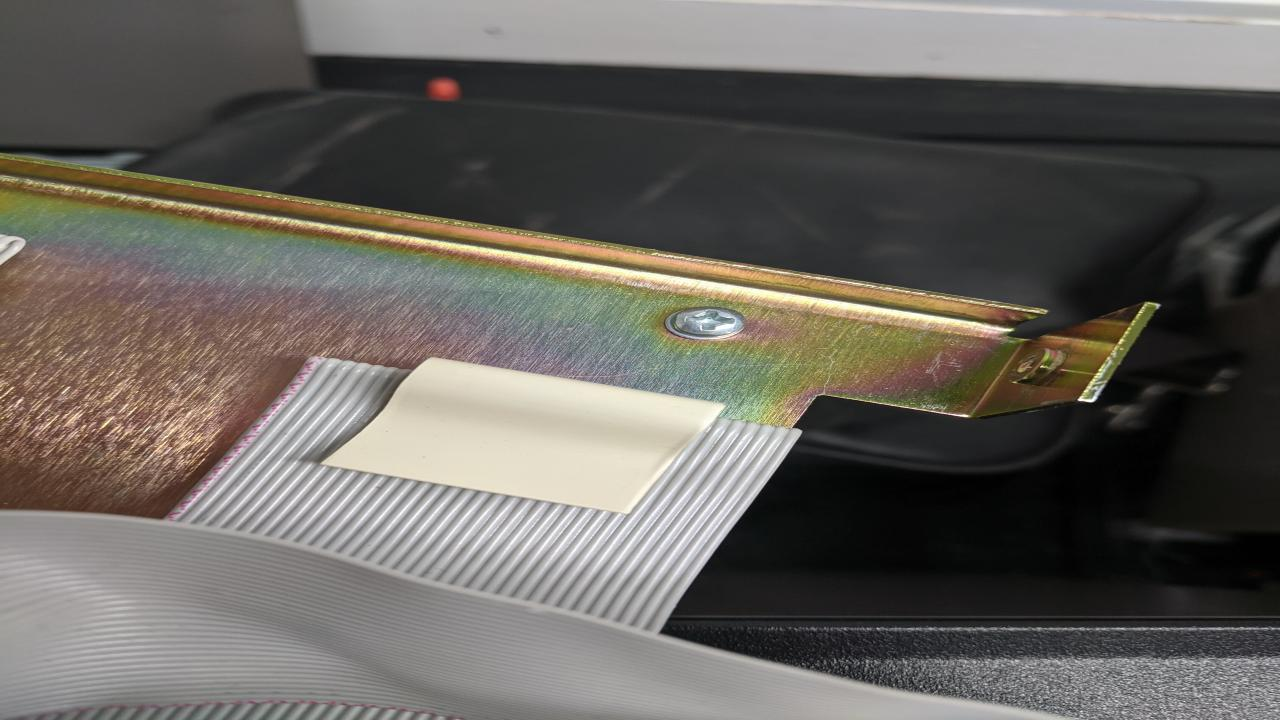CRS: (669, 309, 744, 336)
